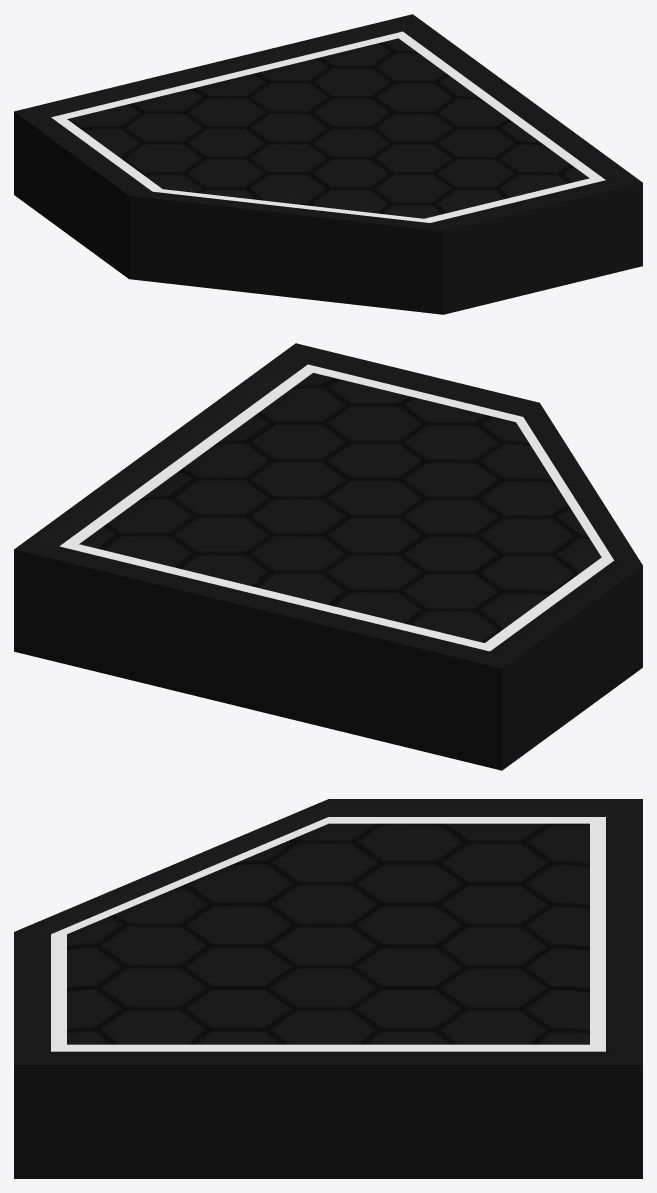
File: Tile 3E5.fbx
3 views of the same model, one above another, from view 1: azimuth 30°, elevation 25°; view 2: azimuth 150°, elevation 25°; view 3: azimuth 270°, elevation 25° (orthographic). The views are drawn at different scales.
Parts seen in each view (by area): view 1: pCube176; view 2: pCube176; view 3: pCube176.
Boxes of the visible parts, x1,y1,x2,y2 form: pCube176: (14, 14, 642, 314); pCube176: (14, 343, 642, 770); pCube176: (14, 799, 642, 1178).
Bounding box in the file's own units: 5 × 1 × 5.
